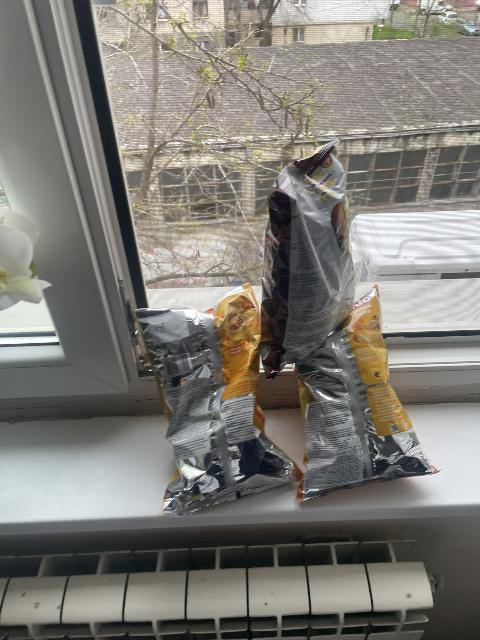Chio Cascaval 125g: (292, 291, 434, 499)
Chio Hula Hoops Cheese 70g: (139, 291, 304, 509)
Lays Beef Grilled Ribs 125g: (260, 144, 355, 371)
